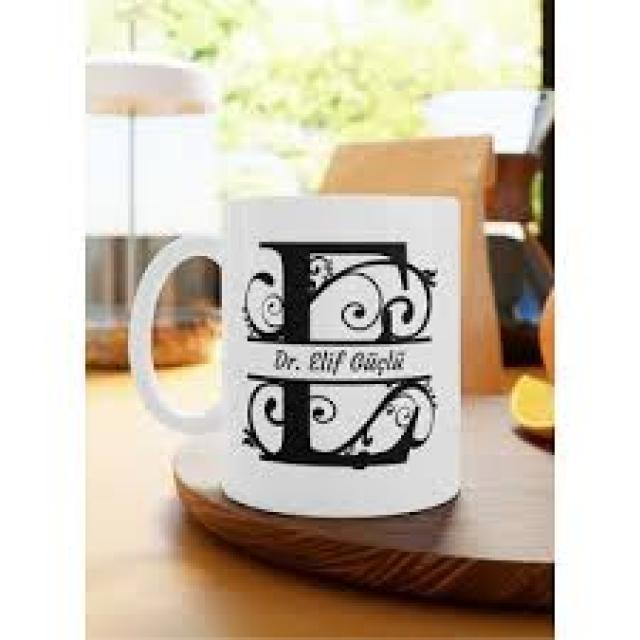taza: (128, 193, 462, 518)
